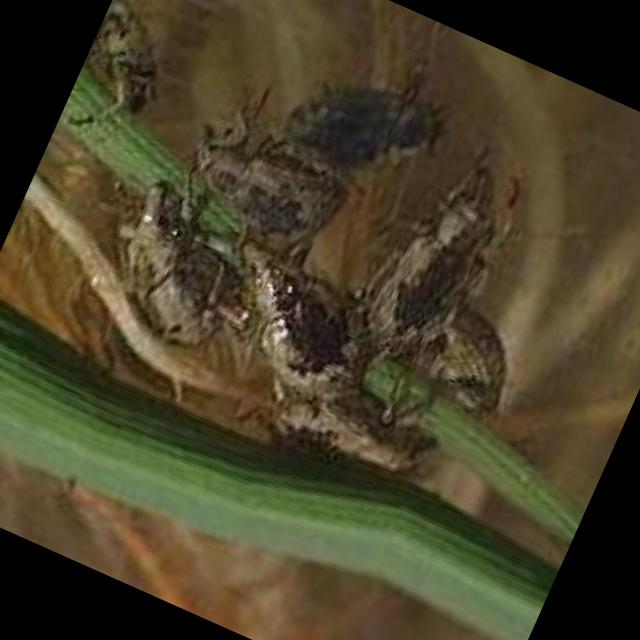rice-bug: (121, 84, 525, 470), (64, 0, 188, 138)
